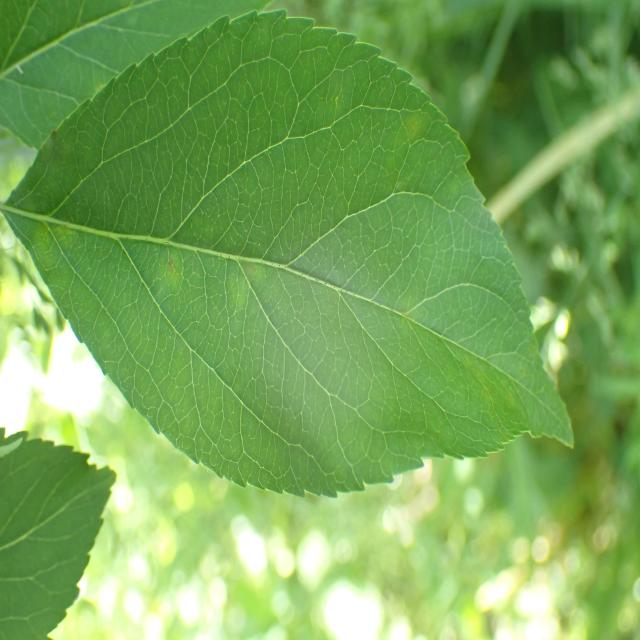scab: (32, 59, 531, 458)
